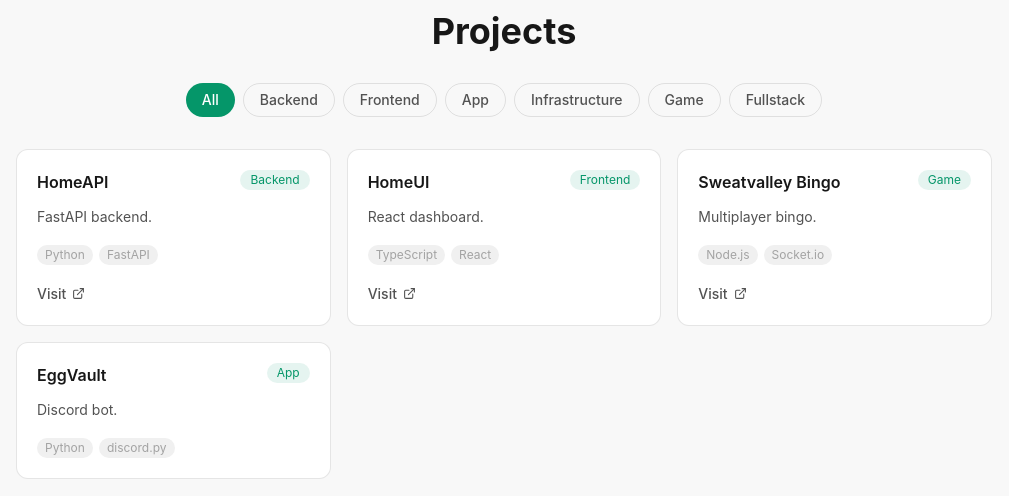
Scenario: ProjectsSection › filters by Backend type
The image size is (1009, 496).
Step 1. Click the button "Backend" → click(289, 100), box [243,83,335,117]
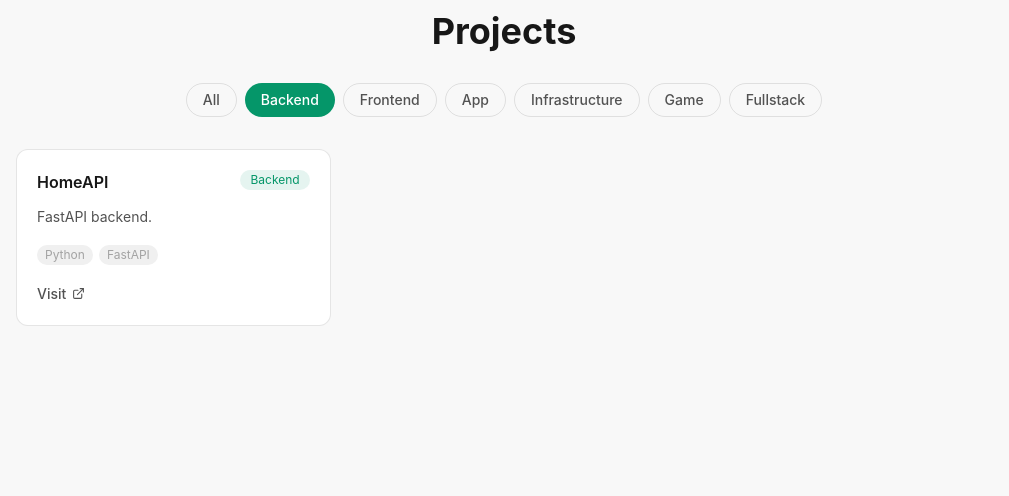
Check: the heading "HomeAPI" is shown, box [37,170,108,194]
Check: the heading "HomeUI" is gone
